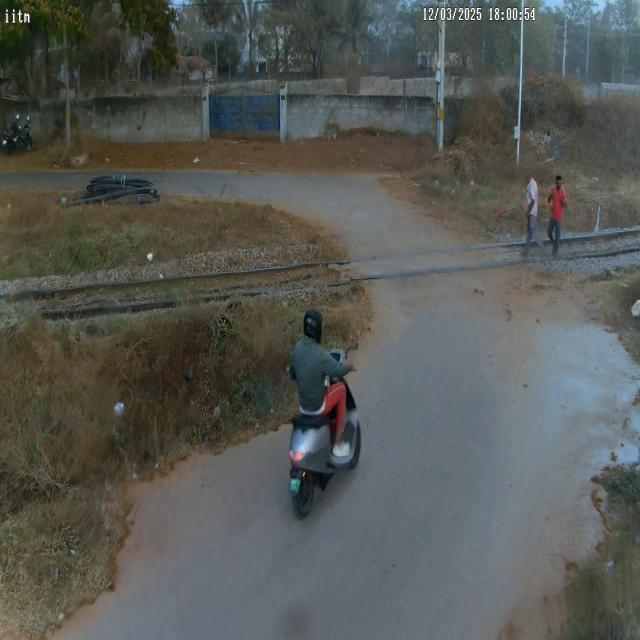objects: (276, 297, 366, 524), (516, 165, 542, 260), (547, 169, 568, 262)
